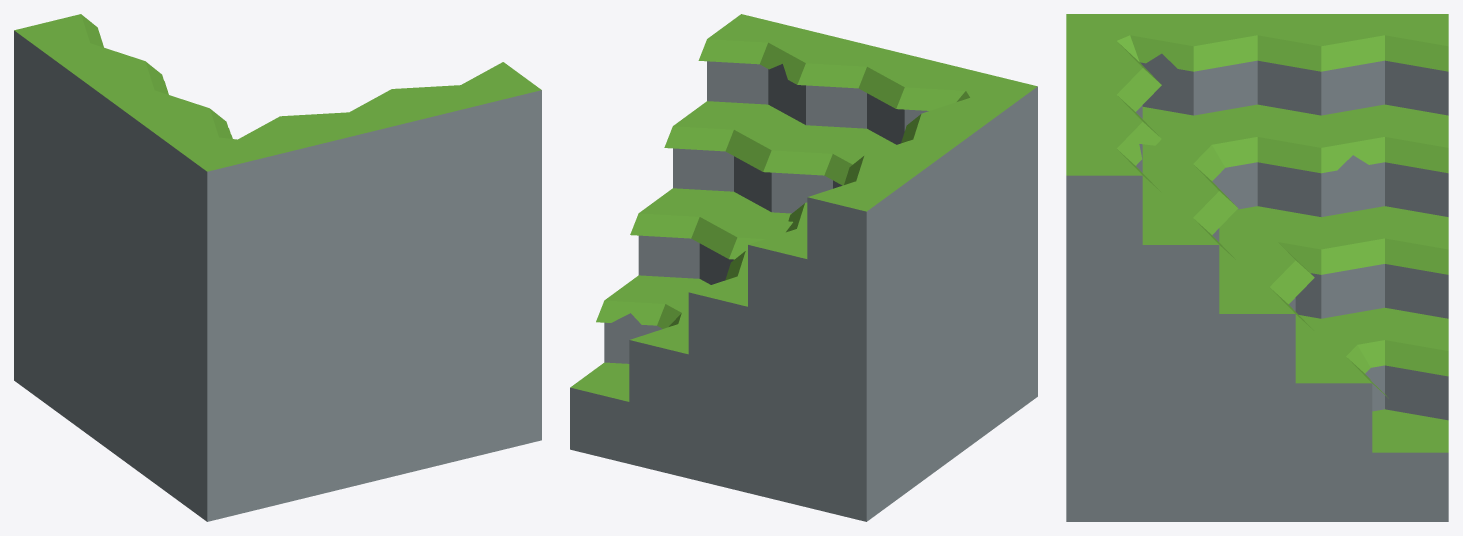
The model's file is cliff_stepsCornerInner_stone.glb.
3 renders of one model, left to right at view 1: azimuth 30°, elevation 25°; view 2: azimuth 150°, elevation 25°; view 3: azimuth 270°, elevation 25°, orthographic. The views are drawn at different scales.
Visible parts, largest first — view 1: cliff_stepsCornerInner_stone; view 2: cliff_stepsCornerInner_stone; view 3: cliff_stepsCornerInner_stone.
Boxes of the visible parts, x1,y1,x2,y2 form: cliff_stepsCornerInner_stone: (14, 14, 541, 521); cliff_stepsCornerInner_stone: (570, 14, 1037, 521); cliff_stepsCornerInner_stone: (1066, 14, 1448, 521).
Size of the model in its own units: 1 by 1 by 1.
